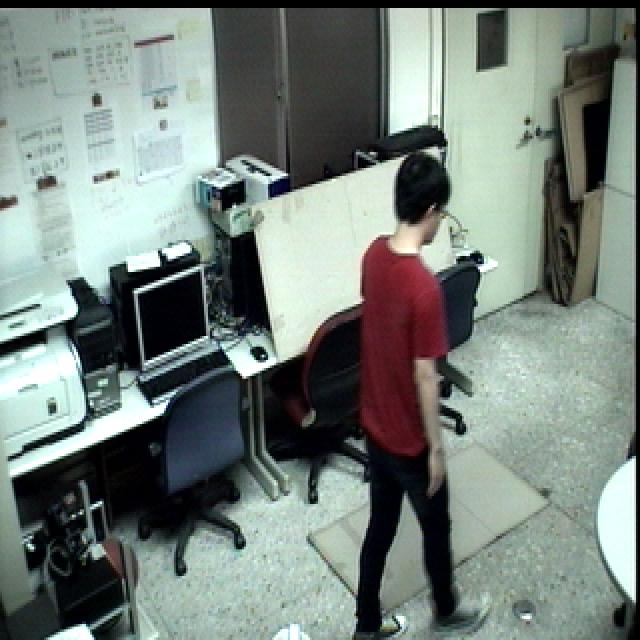stand: (352, 143, 503, 640)
